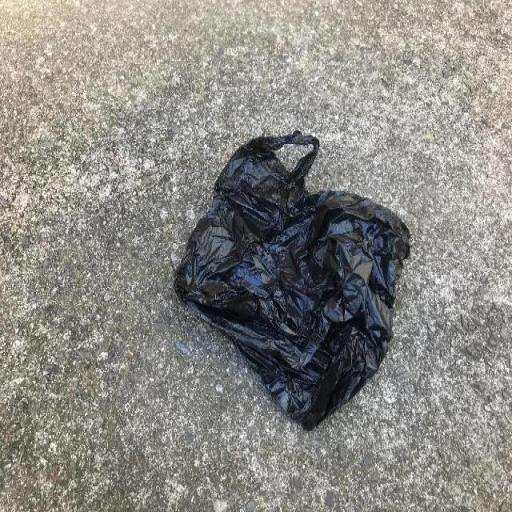plastic-bag: (171, 129, 413, 431)
